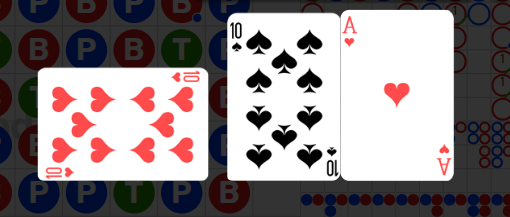10H: (43, 164, 75, 178)
10S: (229, 20, 243, 53)
AH: (435, 141, 451, 176)
